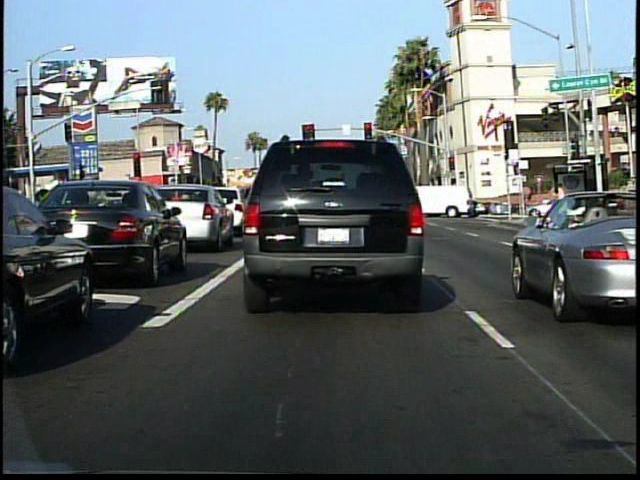person: (550, 180, 572, 231)
